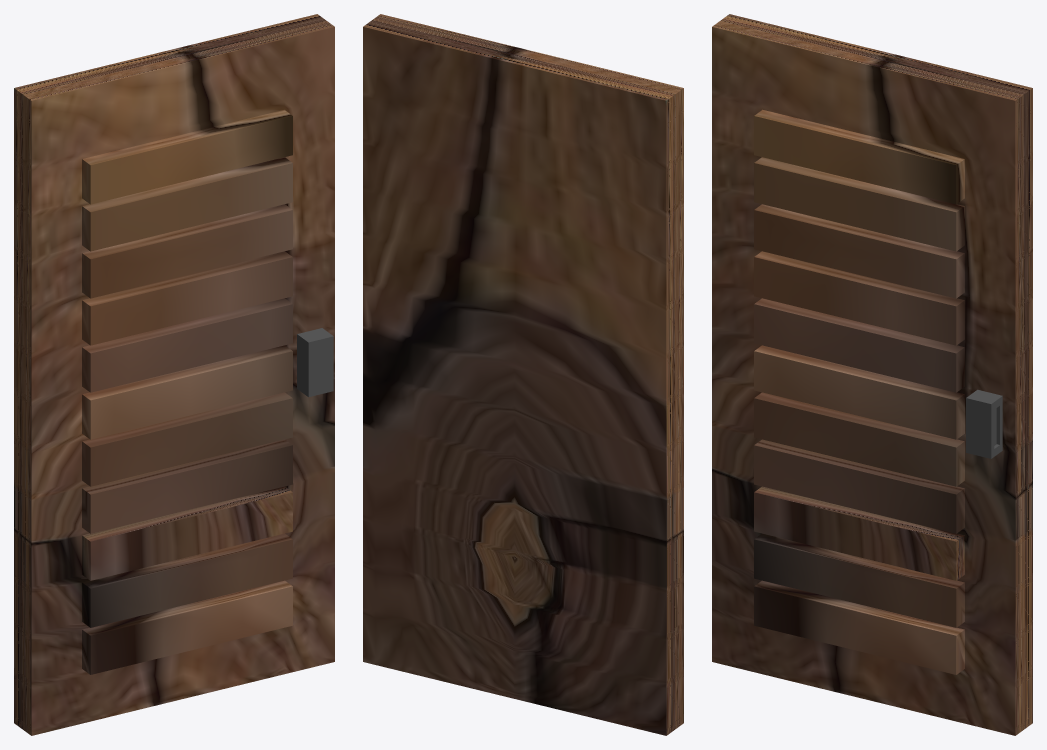
Rendered from Puerta_49.fbx.
The picture shows the model from 3 angles, left to right: view 1: azimuth 30°, elevation 25°; view 2: azimuth 150°, elevation 25°; view 3: azimuth 330°, elevation 25°; orthographic projection.
Visible parts, largest first — view 1: Cube.051; view 2: Cube.051; view 3: Cube.051.
Part boxes in pixels (x1=…): Cube.051: x1=14, y1=14, x2=334, y2=735; Cube.051: x1=363, y1=14, x2=683, y2=735; Cube.051: x1=712, y1=14, x2=1032, y2=735.
Size of the model in its own units: 200 by 400 by 33.09.
